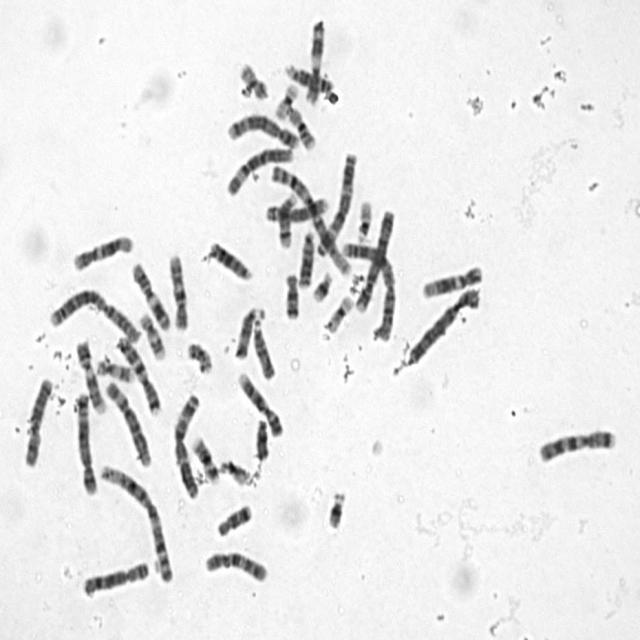A1: (268, 158, 356, 280), (95, 459, 175, 584)
A2: (338, 235, 398, 343), (45, 281, 143, 345)
A3: (314, 146, 360, 259), (169, 386, 202, 501)
B4: (401, 279, 483, 366), (352, 202, 398, 314)
B5: (222, 106, 301, 150), (70, 385, 99, 497)
C10: (200, 543, 270, 584), (164, 247, 190, 332)
C11: (127, 255, 172, 332), (301, 12, 327, 105)
C12: (68, 226, 136, 272), (417, 258, 485, 300)
C6: (101, 373, 152, 469), (222, 140, 296, 198)
C7: (112, 328, 163, 417), (533, 421, 619, 465)
C8: (78, 553, 151, 599), (260, 190, 331, 224)
C9: (233, 365, 285, 438), (72, 333, 108, 415)
D13: (204, 234, 254, 282), (294, 223, 316, 290)
D14: (281, 56, 334, 93), (274, 186, 299, 250)
D15: (230, 300, 267, 361), (248, 313, 276, 382)
E16: (186, 429, 221, 484), (283, 99, 318, 151)
E17: (135, 306, 167, 362), (91, 352, 135, 384)
E18: (212, 496, 254, 538), (251, 413, 271, 461)
F19: (320, 289, 355, 334), (270, 77, 300, 121)
F20: (234, 55, 270, 101), (182, 335, 214, 376)
G21: (323, 483, 348, 531), (307, 265, 333, 303)
G22: (216, 453, 252, 487), (352, 193, 374, 243)
X: (19, 370, 55, 470)
